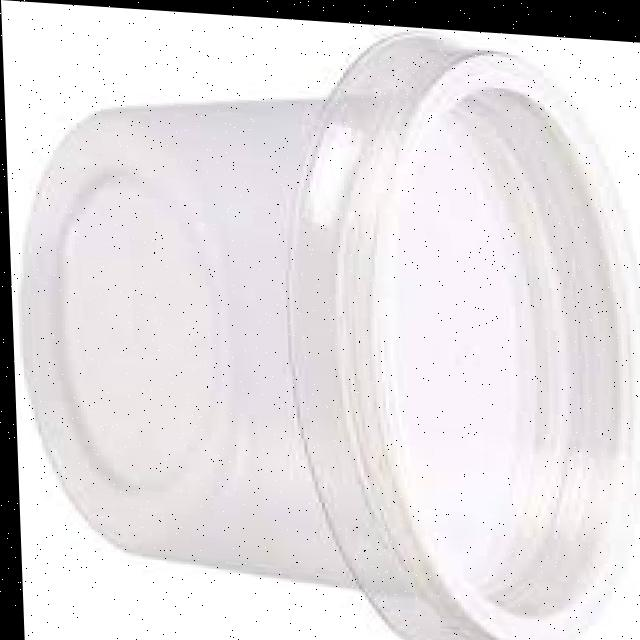disposable: (1, 13, 640, 640)
